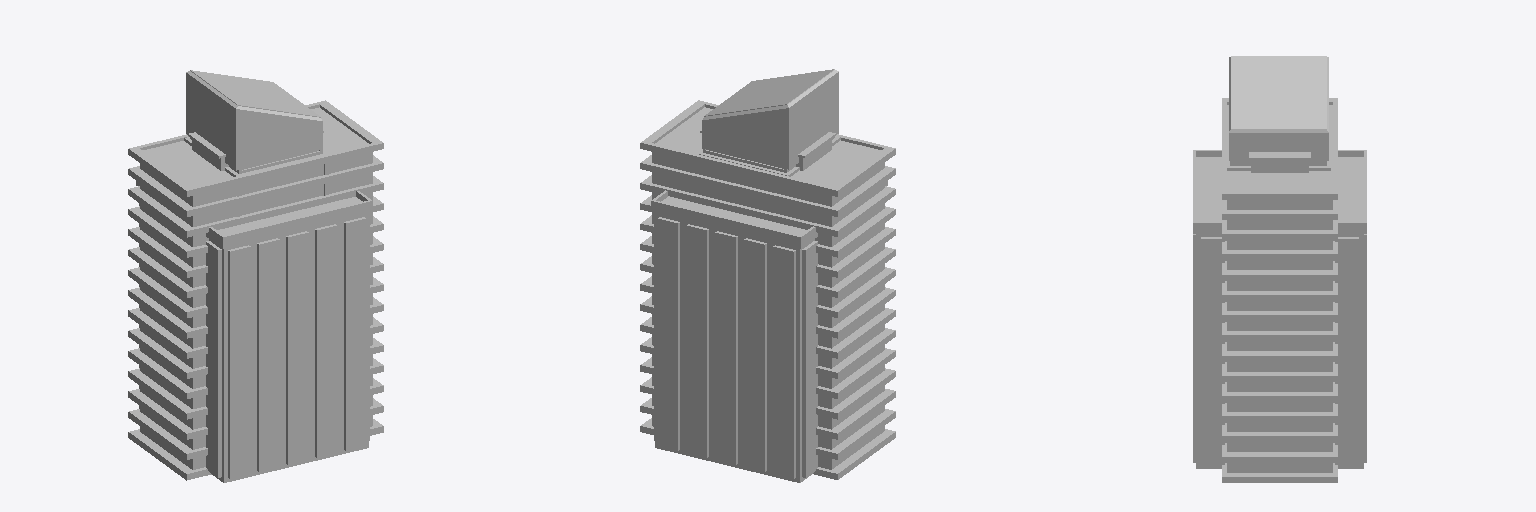
File: buildings.obj
3 renders of one model, left to right at view 1: azimuth 30°, elevation 25°; view 2: azimuth 150°, elevation 25°; view 3: azimuth 270°, elevation 25°, orthographic.
Parts seen in each view (by area): view 1: building_02, building_04, building_03, Highrise_3; view 2: building_02, building_04, building_03, Highrise_3; view 3: building_04, building_02, building_03, Highrise_3.
Part boxes in pixels (left/top/right/bottom): building_02: left=136, top=181, right=372, bottom=482; building_04: left=128, top=100, right=383, bottom=480; building_03: left=186, top=70, right=322, bottom=170; Highrise_3: left=184, top=137, right=328, bottom=216; building_02: left=651, top=181, right=887, bottom=482; building_04: left=640, top=100, right=895, bottom=479; building_03: left=702, top=69, right=838, bottom=169; Highrise_3: left=697, top=136, right=840, bottom=176; building_04: left=1222, top=98, right=1337, bottom=482; building_02: left=1193, top=150, right=1366, bottom=468; building_03: left=1229, top=56, right=1328, bottom=160; Highrise_3: left=1227, top=123, right=1330, bottom=170.
Size of the model in its own units: 0.6819 by 1.18 by 0.5235.